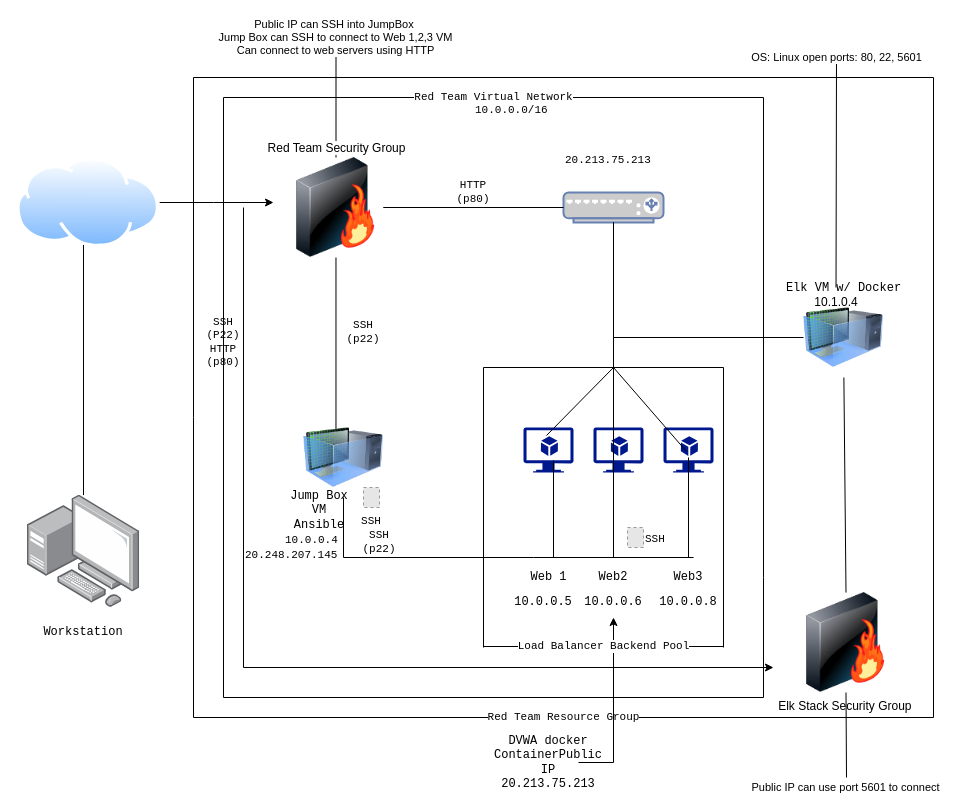
The diagram is 957 pixels wide and 812 high, and some of its shapes have lost their labels. Grey dashed boxes stand in for pictures. The shapes that lost their labels are listed below. From the top down, each one's centre as x and y in pixels, then its label:
the point at 87,202: Internet
the point at 613,207: Red Team Load Balancer
